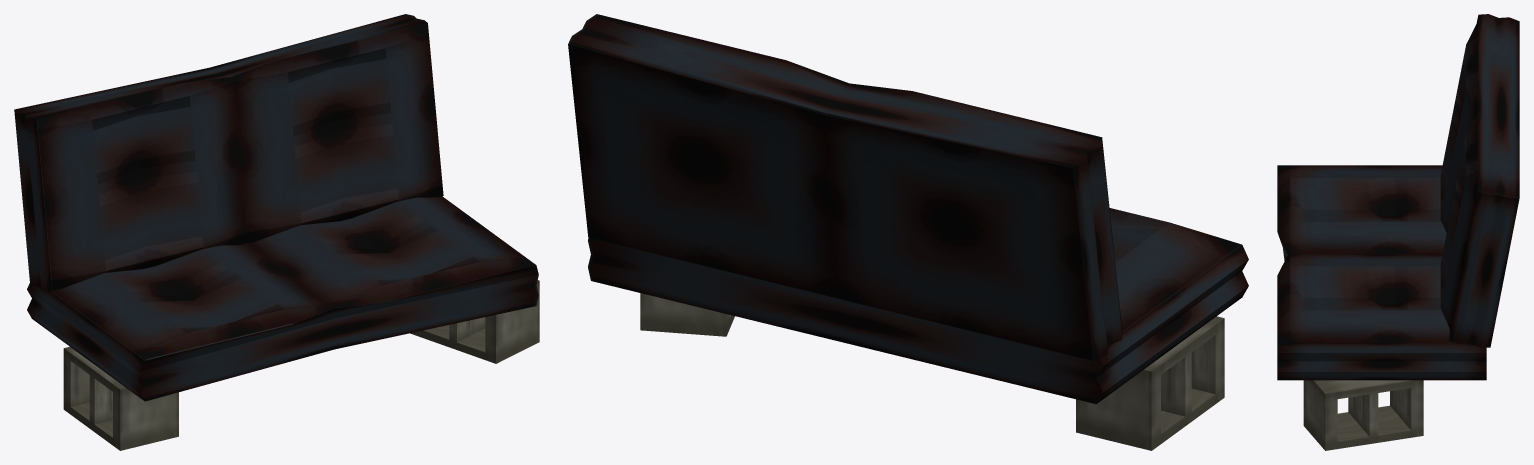
File: couch01.fbx
3 renders of one model, left to right at view 1: azimuth 30°, elevation 25°; view 2: azimuth 150°, elevation 25°; view 3: azimuth 270°, elevation 25°, orthographic. The views are drawn at different scales.
Visible parts, largest first — view 1: Cube.003; view 2: Cube.003; view 3: Cube.003.
Boxes of the visible parts, x1,y1,x2,y2 form: Cube.003: (14, 14, 539, 450); Cube.003: (568, 14, 1248, 450); Cube.003: (1277, 14, 1519, 450).
Bounding box in the file's own units: 436 × 259 × 232.
2 materials, 2 textured.
